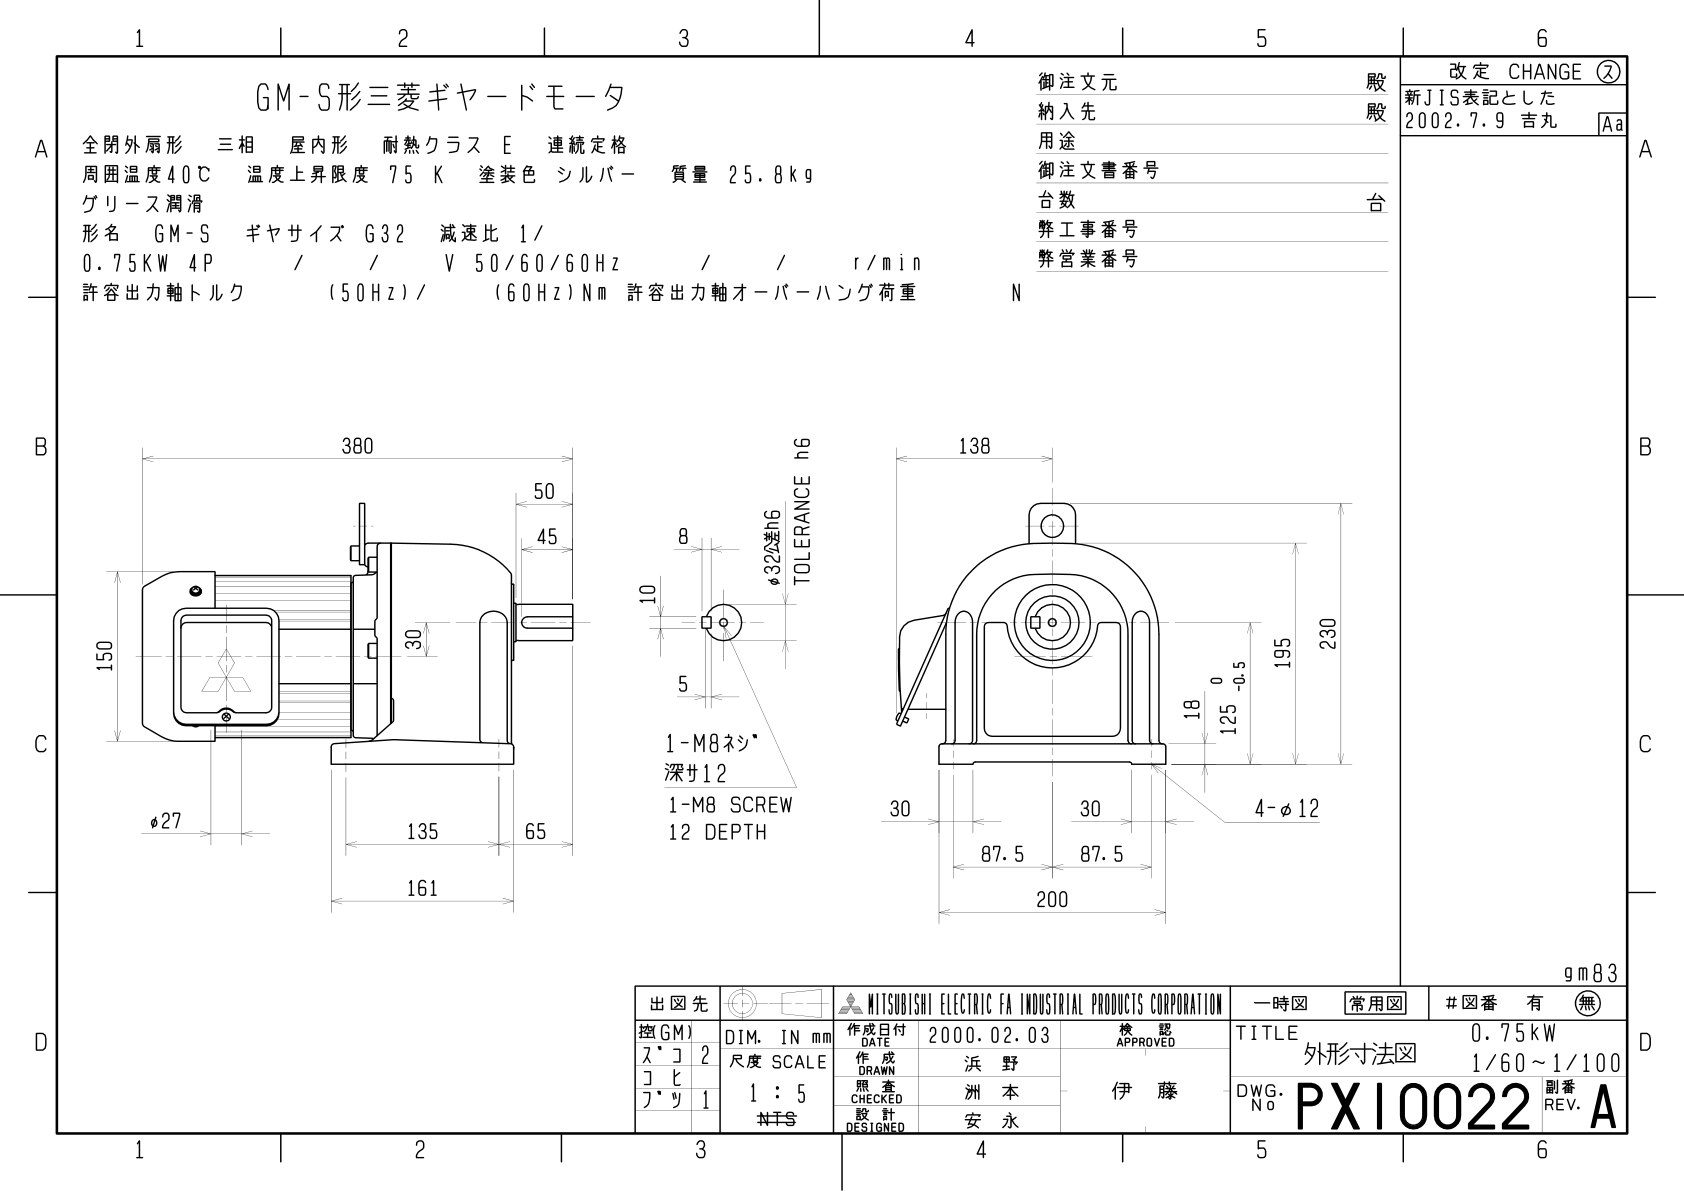GM_S_屋内＿三相_脚: (73, 406, 1392, 955)
